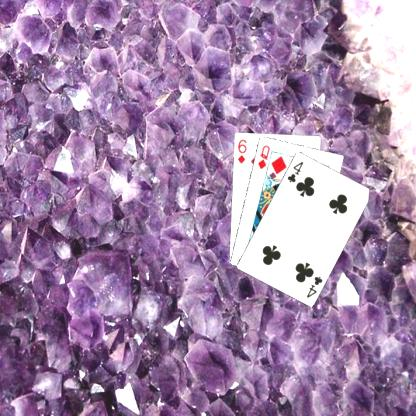4C: (284, 159, 304, 183), (304, 274, 324, 298)
6D: (235, 136, 248, 164)
QD: (255, 142, 271, 170)
